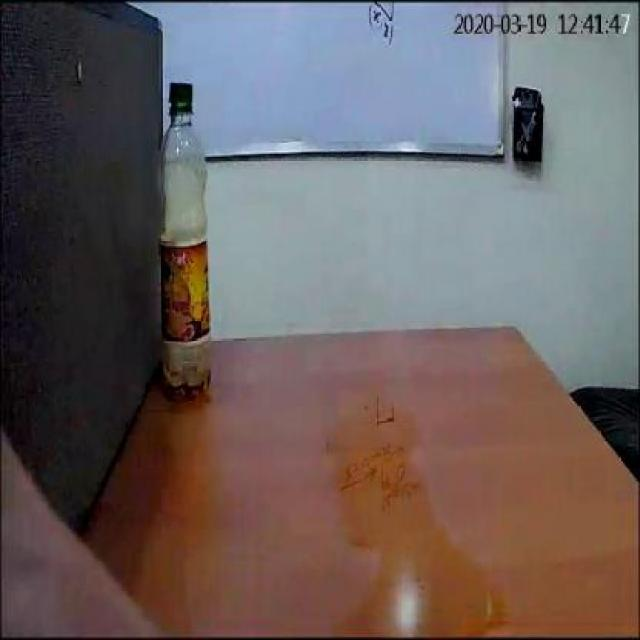spill: (332, 400, 506, 632)
